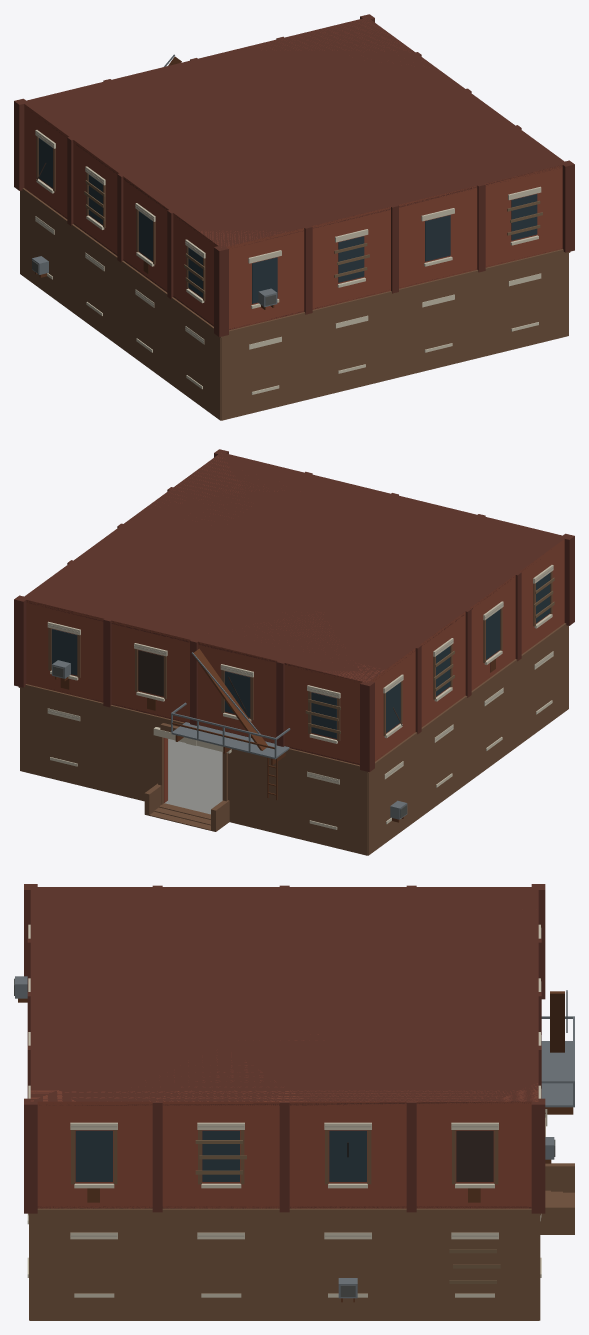
File: tw_brick_16_base.glb
3 renders of one model, top to bottom at view 1: azimuth 30°, elevation 25°; view 2: azimuth 150°, elevation 25°; view 3: azimuth 270°, elevation 25°, orthographic. The views are drawn at different scales.
Parts seen in each view (by area): view 1: tw_brick_16_base; view 2: tw_brick_16_base; view 3: tw_brick_16_base.
Boxes of the visible parts, x1,y1,x2,y2 form: tw_brick_16_base: (14, 14, 574, 420); tw_brick_16_base: (14, 449, 574, 855); tw_brick_16_base: (14, 884, 574, 1320).
Size of what is drawn, in the model's own units: 17.06 by 7.6 by 17.68.
2 materials, 2 textured.
